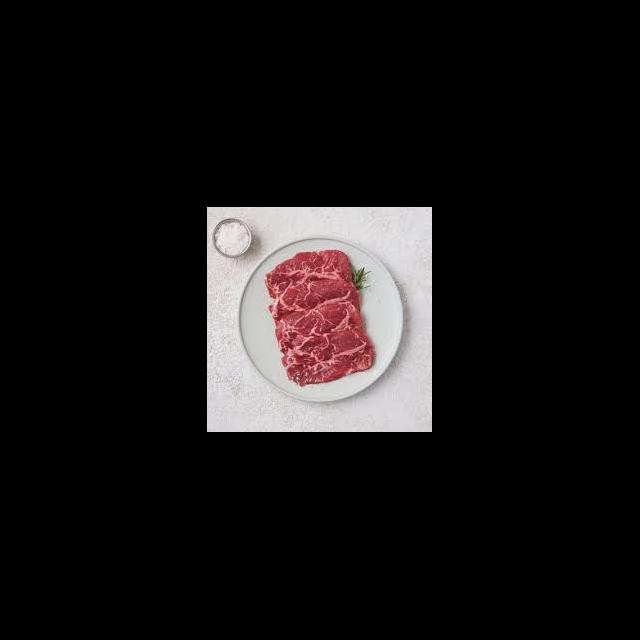beef: (279, 317, 374, 382), (266, 251, 351, 292), (272, 282, 359, 318)
